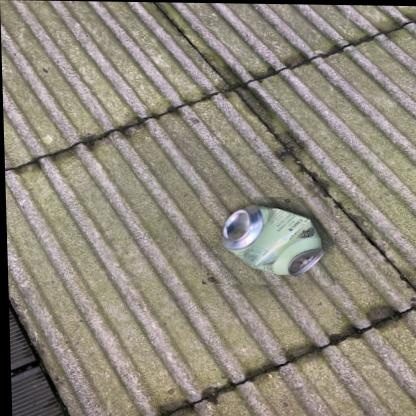trash: (223, 206, 323, 274)
